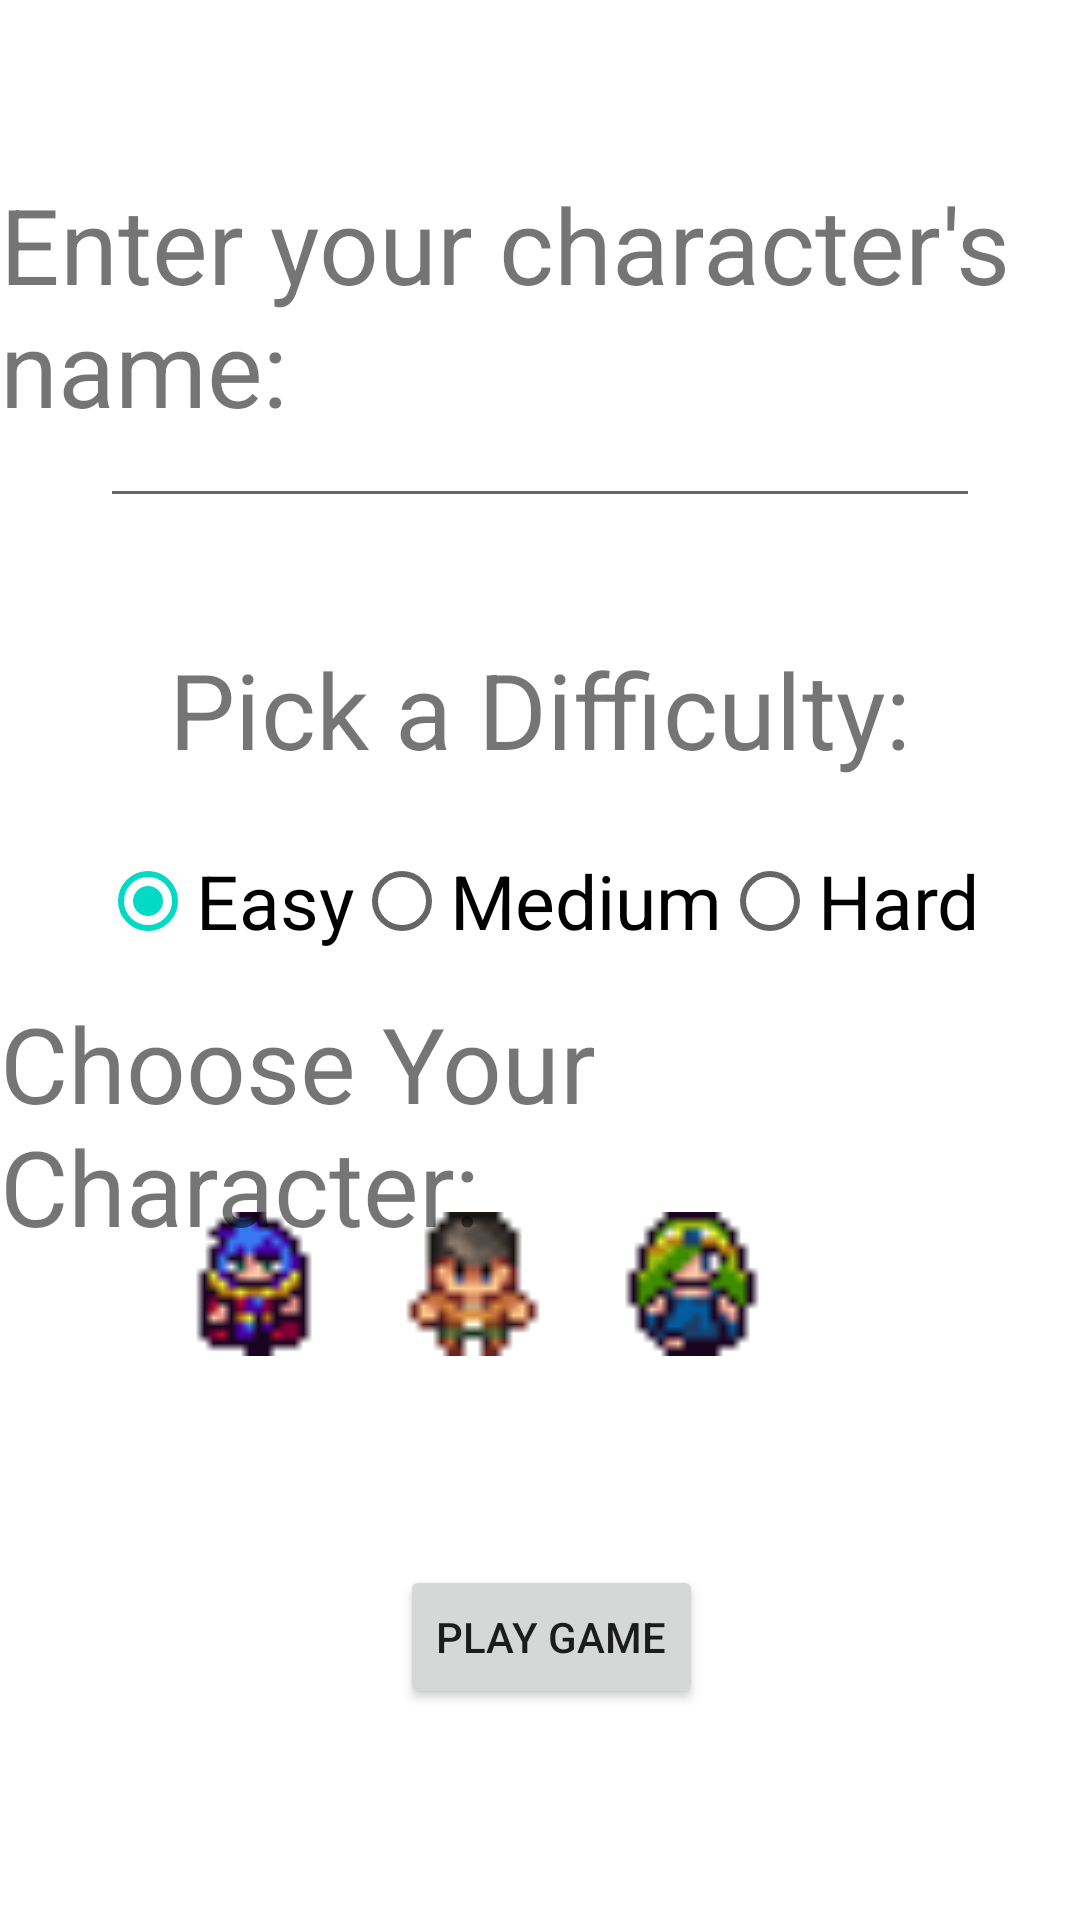

Icon bounding boxes for this 1080x1920 phone screenshot, format [x1,y1,x2,y2]:
elf static: [625,1212,759,1356]
mage static: [190,1212,325,1356]
